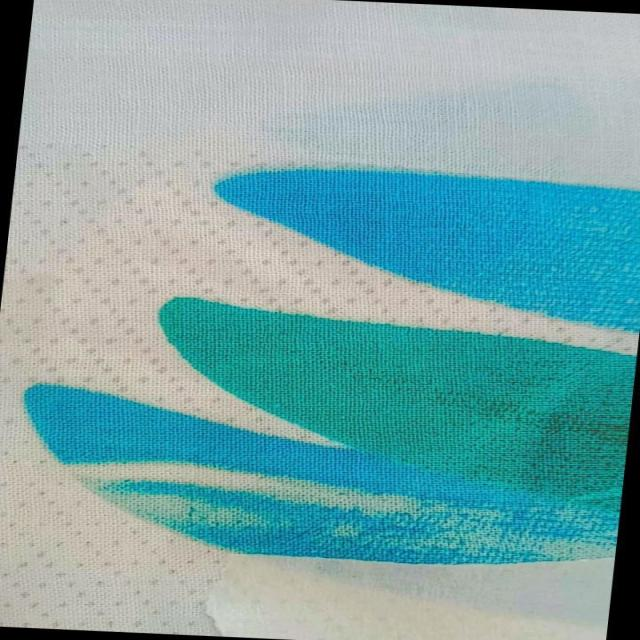selvet: (47, 453, 430, 522)
